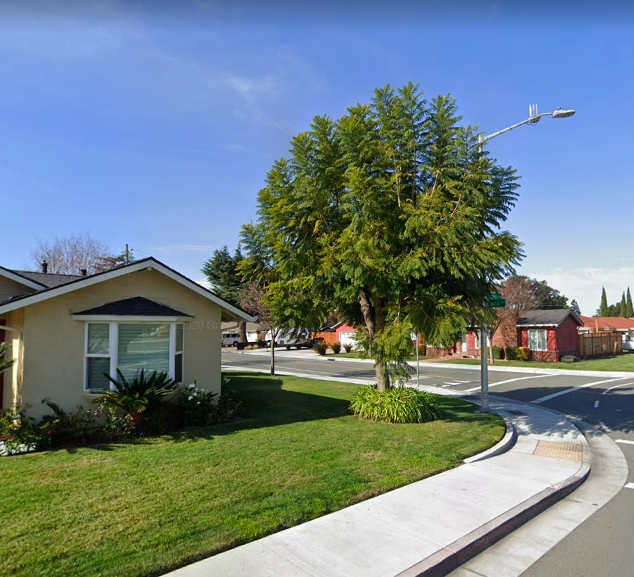tree: (232, 79, 529, 393)
